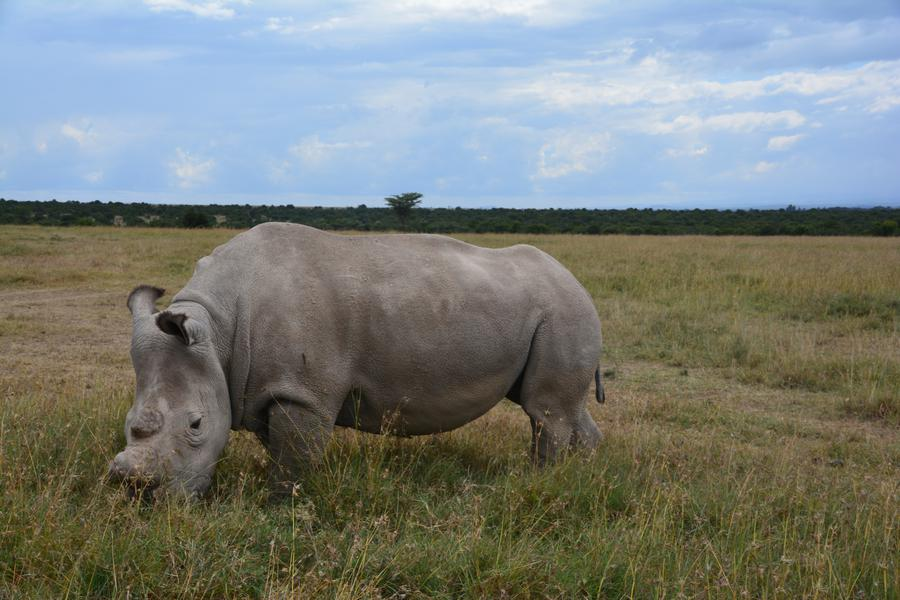rhino: (112, 231, 612, 481)
